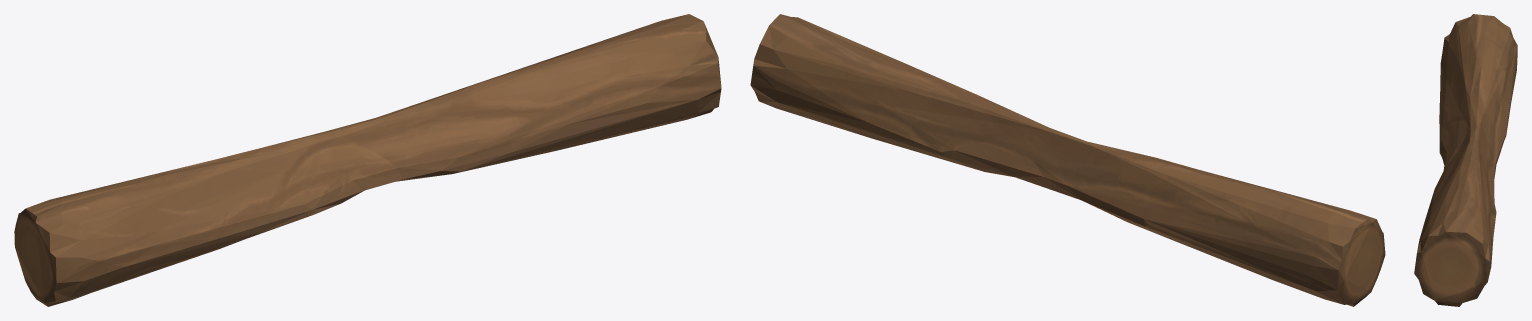
Rendered from TargetDummyArms.fbx.
3 views of the same model, side by side, from view 1: azimuth 30°, elevation 25°; view 2: azimuth 150°, elevation 25°; view 3: azimuth 270°, elevation 25° (orthographic). The views are drawn at different scales.
Visible parts, largest first — view 1: Cylinder.001; view 2: Cylinder.001; view 3: Cylinder.001.
Part boxes in pixels (x1=…): Cylinder.001: x1=14, y1=14, x2=721, y2=306; Cylinder.001: x1=750, y1=14, x2=1385, y2=306; Cylinder.001: x1=1414, y1=14, x2=1517, y2=306.
Size of the model in its own units: 227 by 46.17 by 38.13.
Materials: 1 (1 with a texture image).
